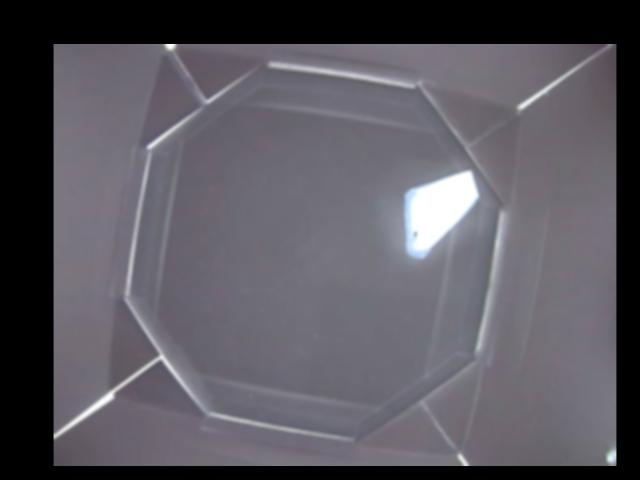China: (398, 168, 481, 261)
